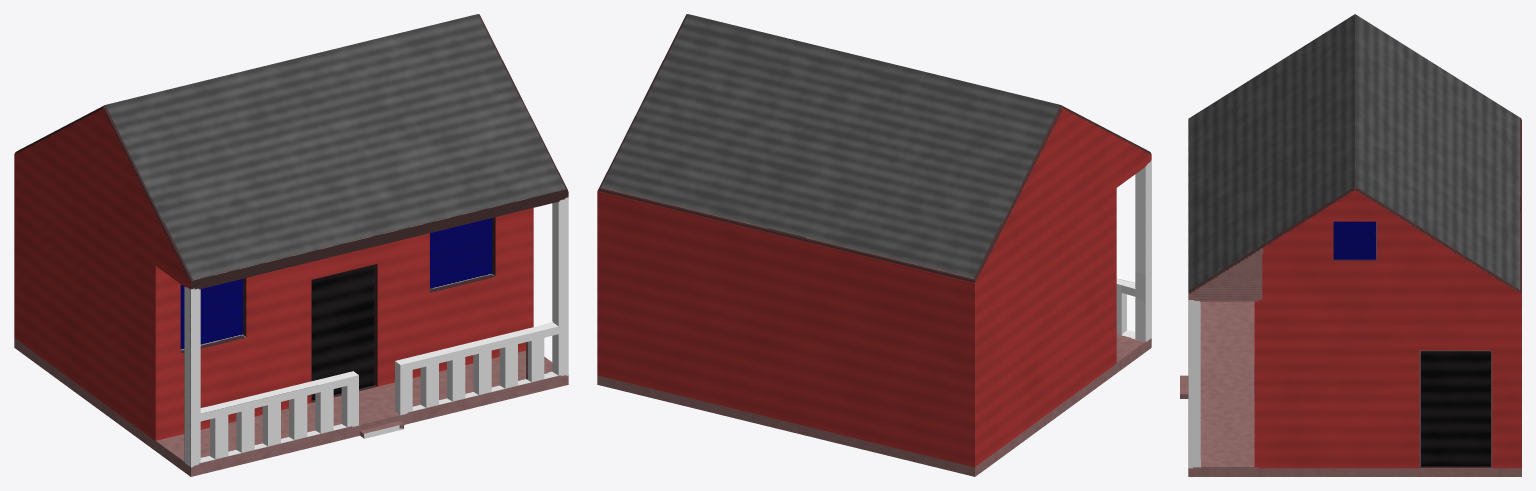
Rendered from House_1.fbx.
3 views of the same model, side by side, from view 1: azimuth 30°, elevation 25°; view 2: azimuth 150°, elevation 25°; view 3: azimuth 270°, elevation 25° (orthographic). The views are drawn at different scales.
Visible parts, largest first — view 1: House 1 EXP; view 2: House 1 EXP; view 3: House 1 EXP.
Part boxes in pixels (bbox=[...]): House 1 EXP: bbox=[14, 14, 568, 476]; House 1 EXP: bbox=[597, 14, 1151, 476]; House 1 EXP: bbox=[1180, 14, 1521, 476].
Bounding box in the file's own units: 542 × 420 × 449.
Materials: 1 (1 with a texture image).
